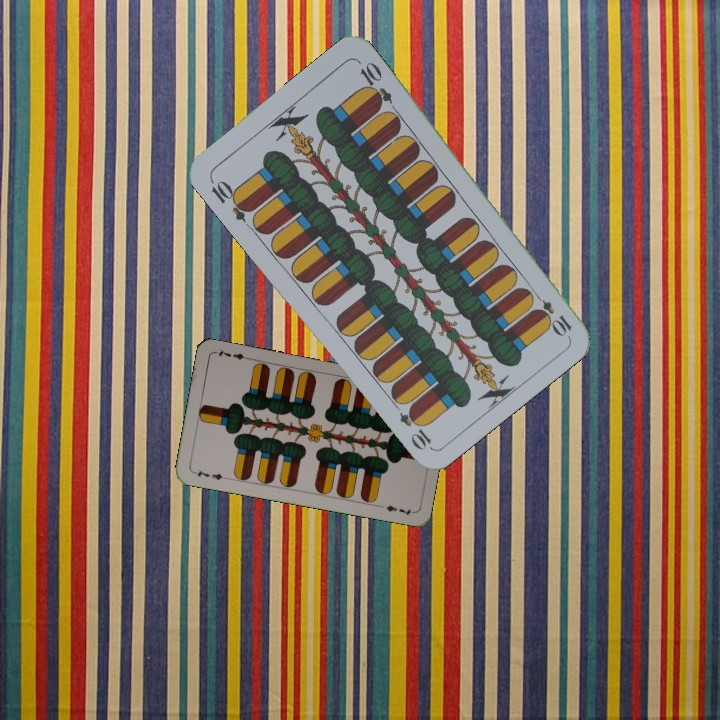E10: (206, 174, 255, 224), (527, 287, 575, 338)
E7: (189, 465, 230, 482)
